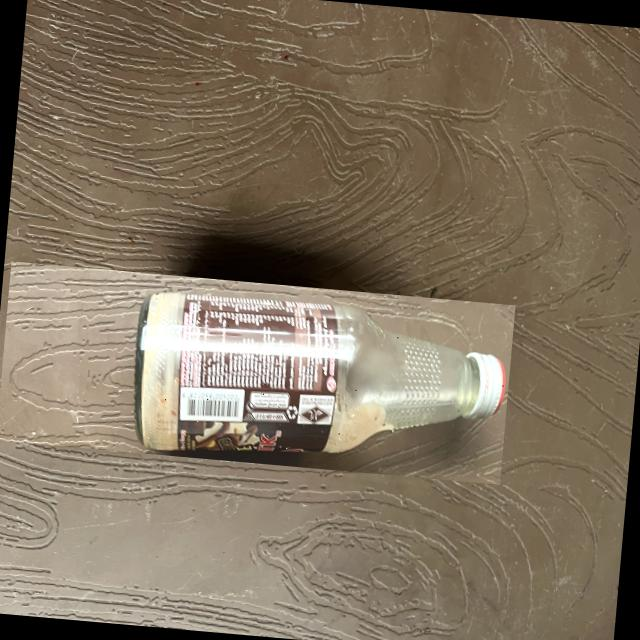REJECT: (0, 260, 515, 483)
